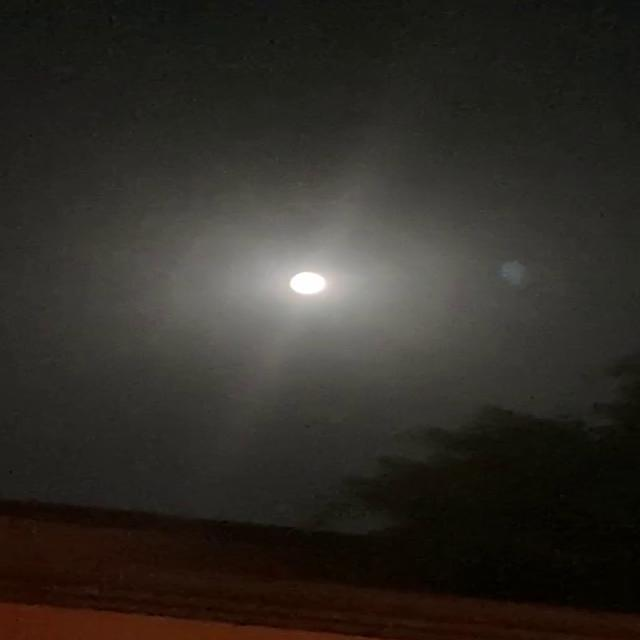moon: (286, 269, 344, 301)
